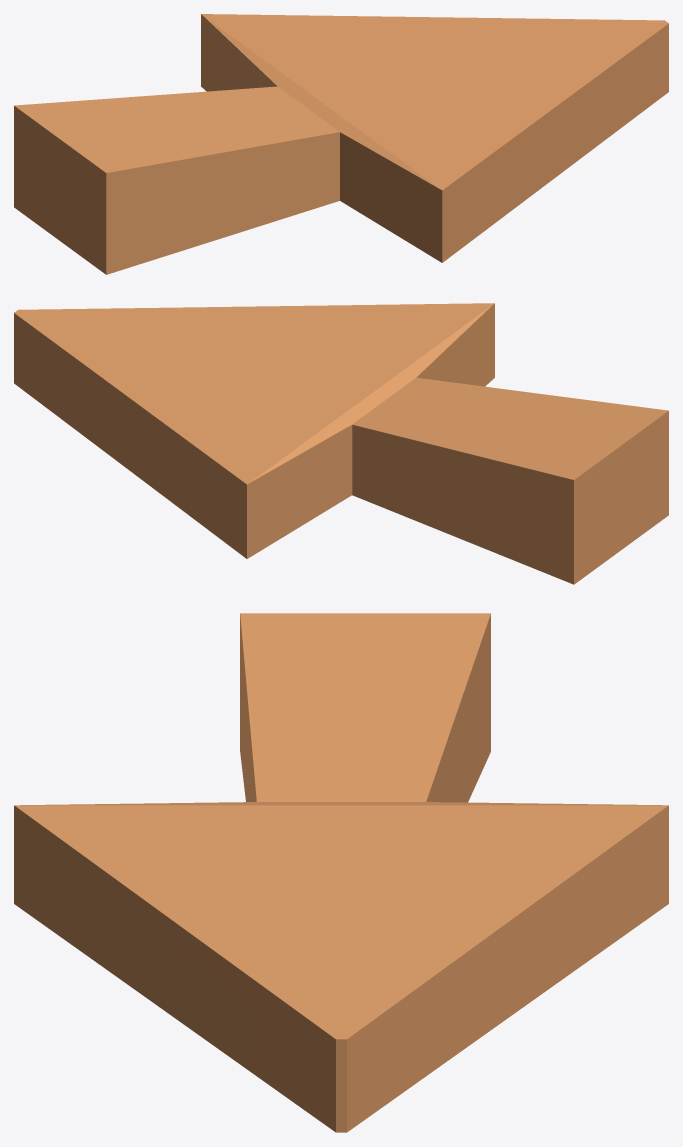
The model's file is ArrowSquirrel.fbx.
The picture shows the model from 3 angles, top to bottom: view 1: azimuth 30°, elevation 25°; view 2: azimuth 150°, elevation 25°; view 3: azimuth 270°, elevation 25°; orthographic projection. The views are drawn at different scales.
Parts seen in each view (by area): view 1: Cube; view 2: Cube; view 3: Cube.
Boxes of the visible parts, box(x1,y1,x2,y2) form: Cube: box(14, 14, 668, 274); Cube: box(14, 303, 668, 584); Cube: box(14, 613, 668, 1132).
Size of the model in its own units: 249 by 40.59 by 174.
